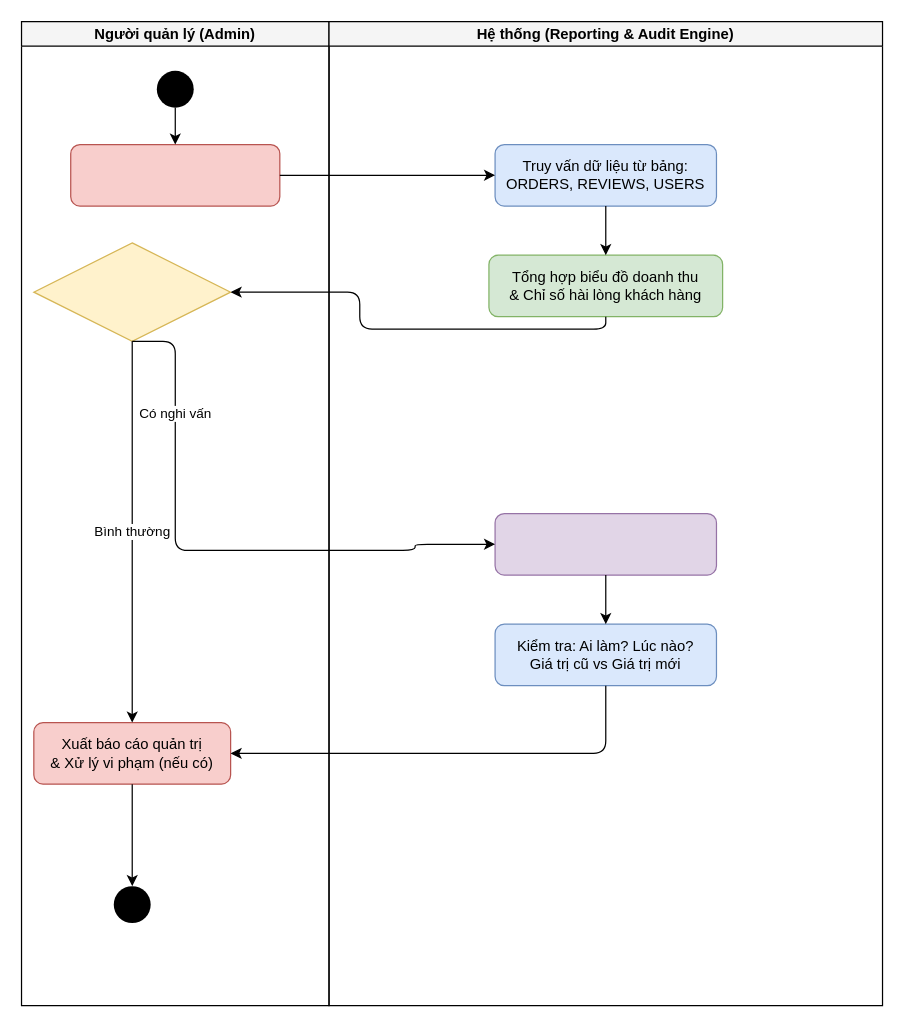
The diagram is 904 pixels wide and 1027 high, and some of its shapes have lost their labels. Here are the shapes that lost their labels. From the top down, the centre of each, then its label:
At pixel 174 174: "Yêu cầu Báo cáo Doanh thu & Hiệu suất bán hàng".
At pixel 132 291: "Phát hiện bất thường? (VD: Xóa đơn hàng, sửa giá)".
At pixel 605 543: "Truy xuất Nhật ký hệ thống (AUDIT_LOGS)".
